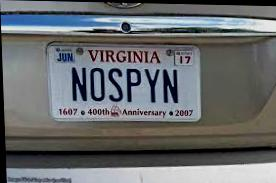License_Plate: (46, 43, 202, 120)
